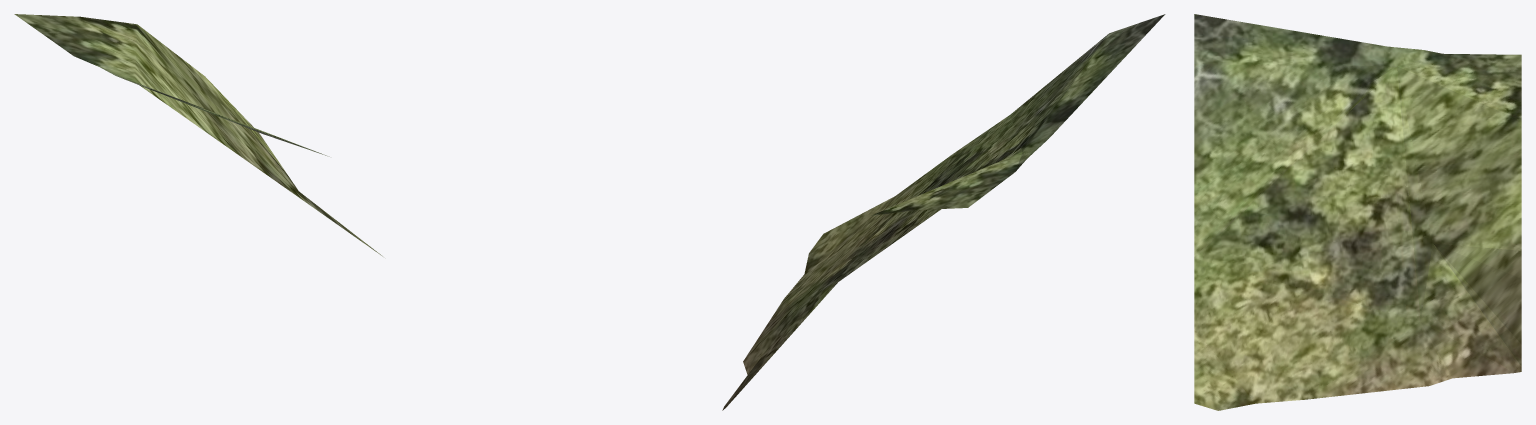
3 renders of one model, left to right at view 1: azimuth 30°, elevation 25°; view 2: azimuth 150°, elevation 25°; view 3: azimuth 270°, elevation 25°, orthographic. The views are drawn at different scales.
Size of the model in its own units: 2.95 by 2.57 by 2.95.
Materials: 3 (3 with a texture image).
